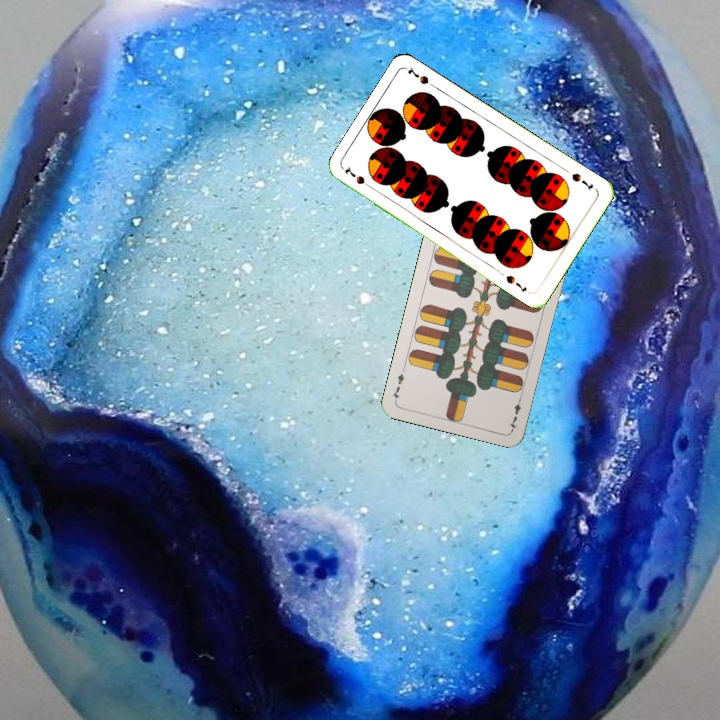E7: (505, 392, 524, 432)
S7: (341, 163, 376, 192), (568, 169, 596, 194)
